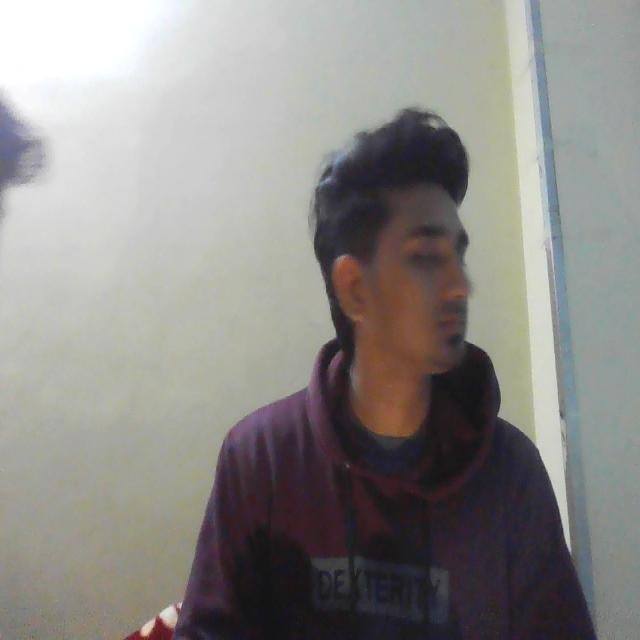real: (344, 120, 489, 393)
